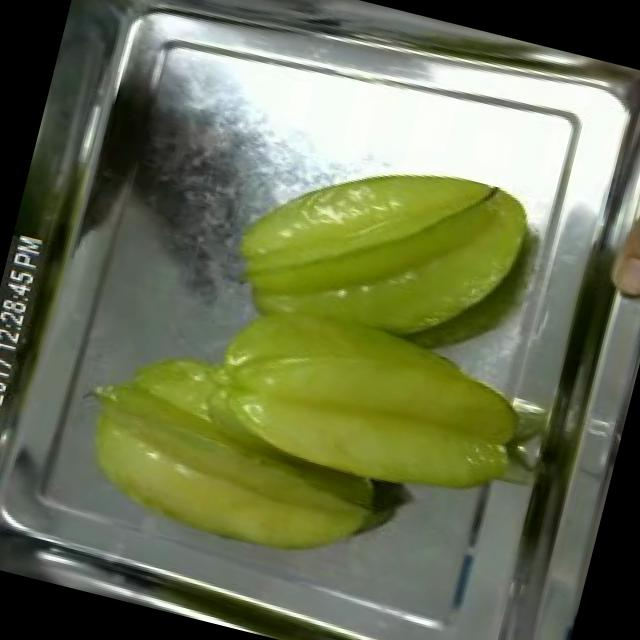fruit: (170, 106, 590, 531), (45, 325, 423, 594), (582, 69, 640, 312)
